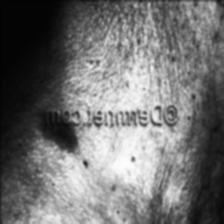Unclassified: (34, 129, 79, 147)
